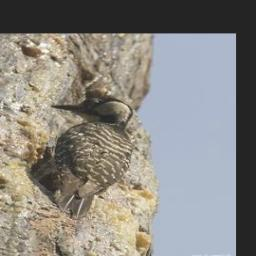Woodpecker: (28, 94, 135, 222)
